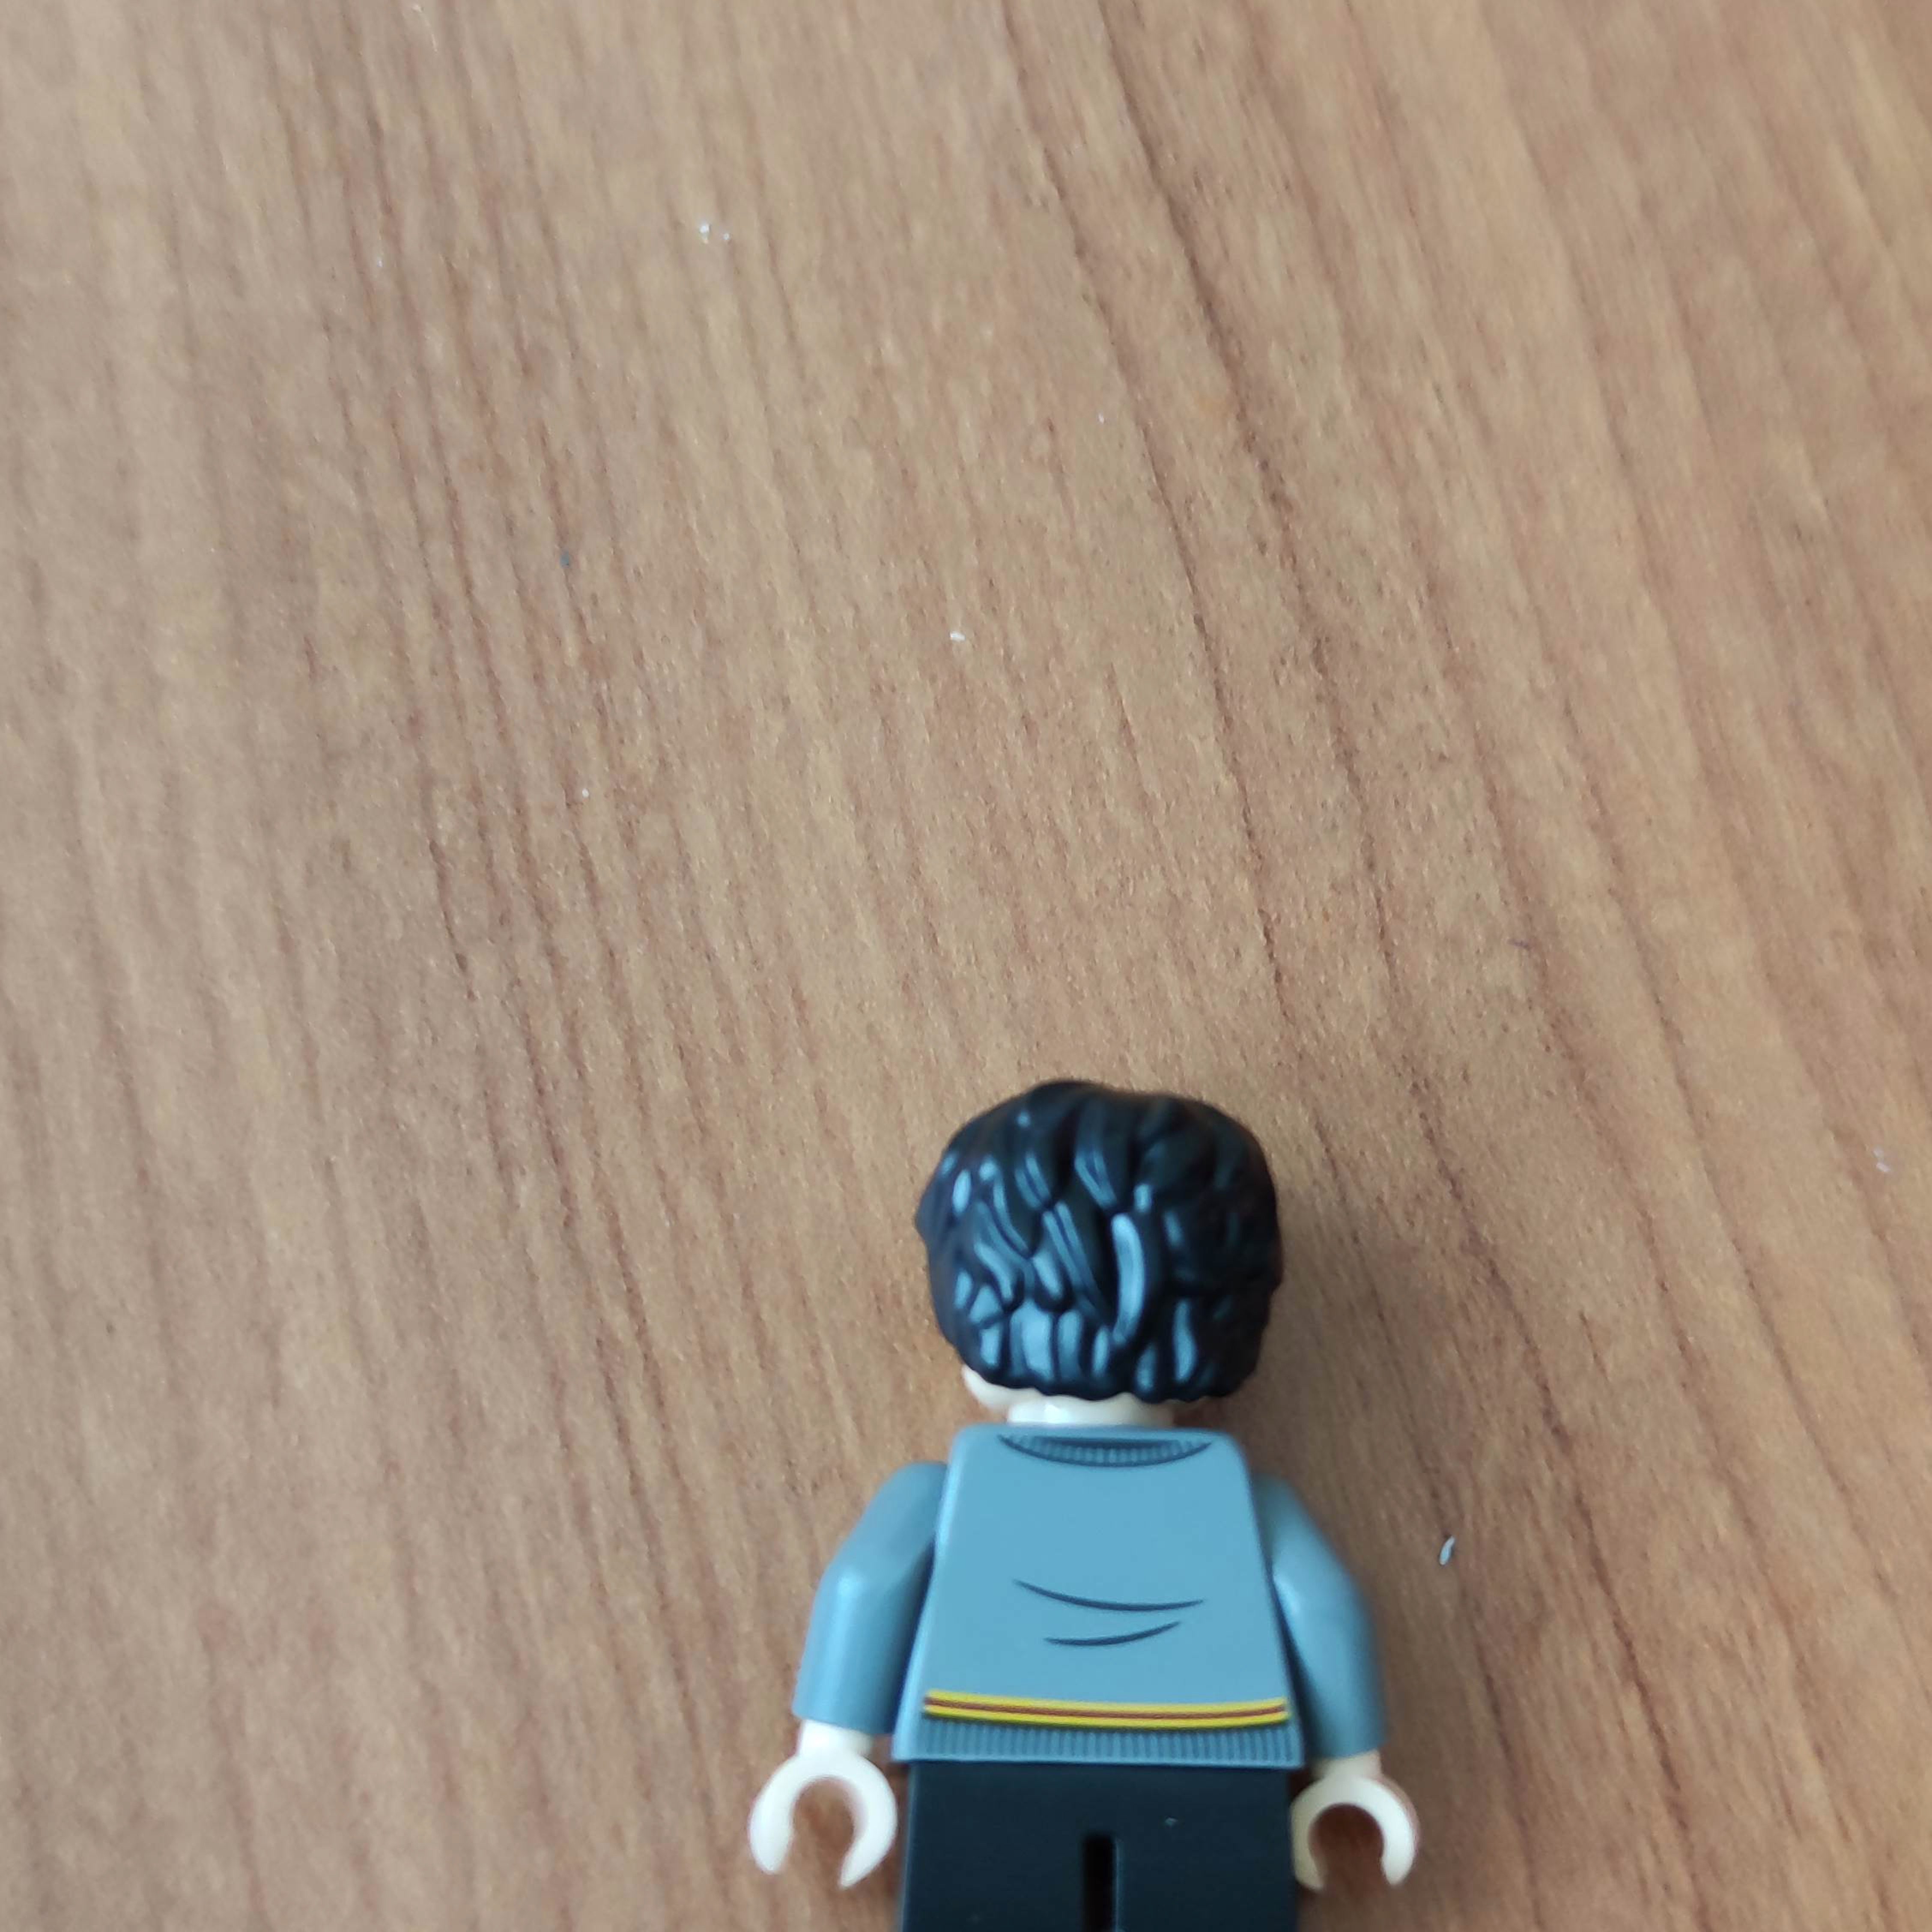lego: (748, 1079, 1417, 1932)
